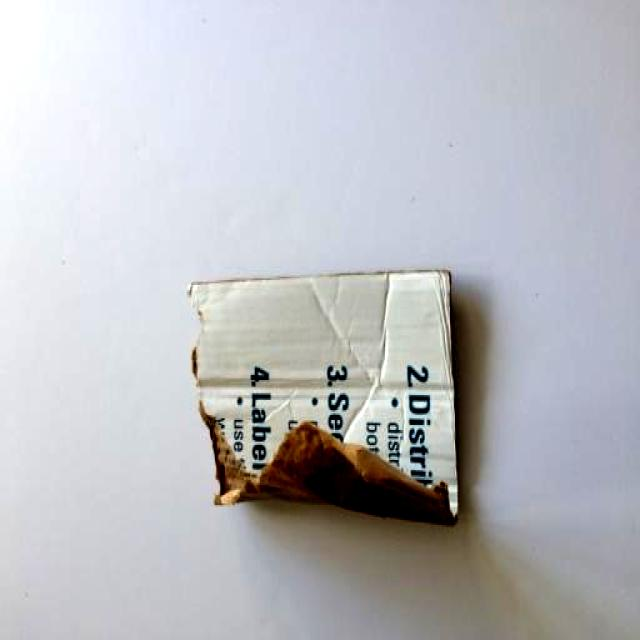cardboard: (186, 269, 463, 528)
